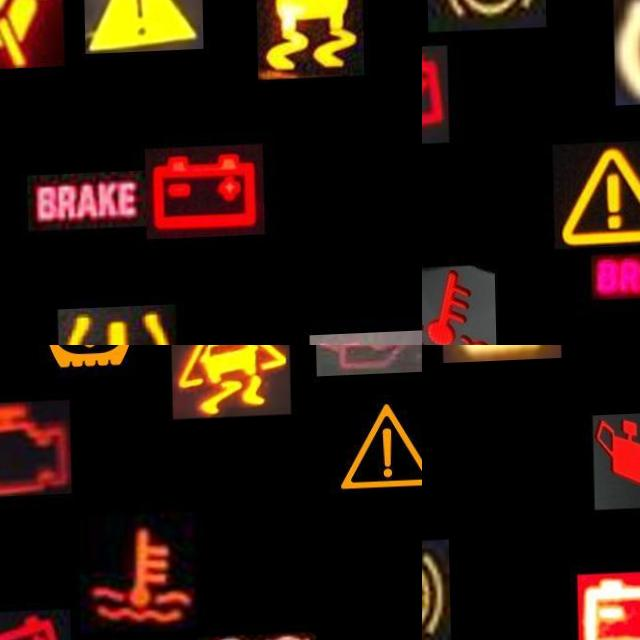Central Warning lamp: (326, 389, 422, 511), (550, 143, 640, 252), (82, 0, 202, 56)
Engine cooling system: (77, 514, 197, 636), (422, 267, 494, 345)
